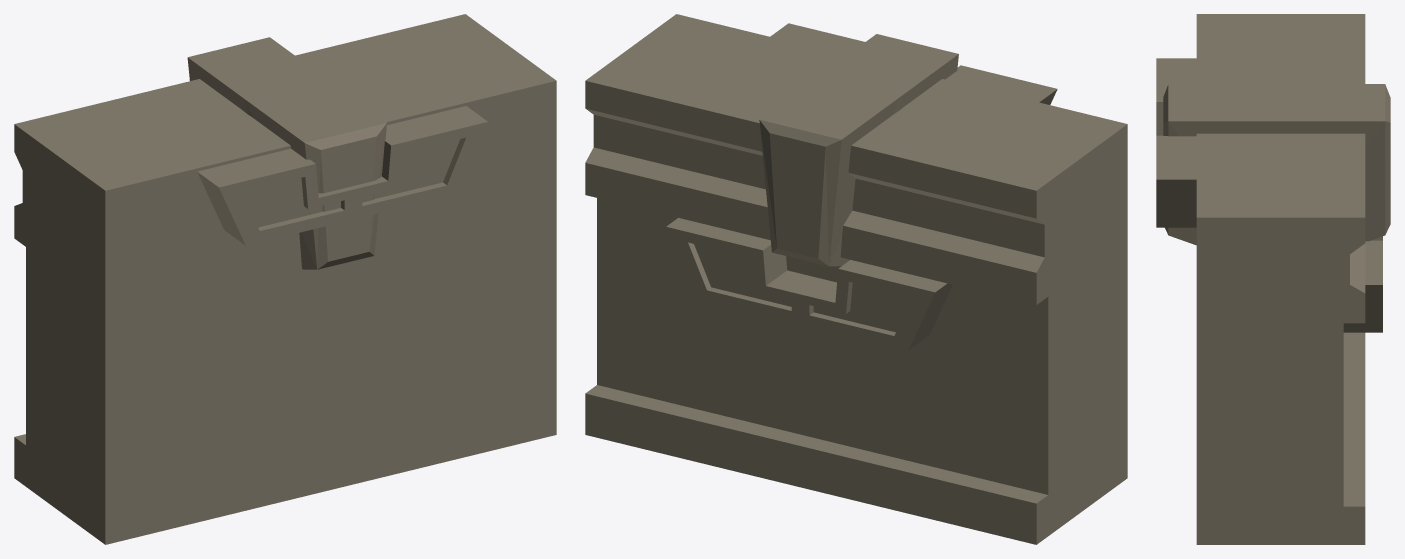
The model's file is TempleFrameB_A.fbx.
3 renders of one model, left to right at view 1: azimuth 30°, elevation 25°; view 2: azimuth 150°, elevation 25°; view 3: azimuth 270°, elevation 25°, orthographic. The views are drawn at different scales.
Parts seen in each view (by area): view 1: TempleFrameB_A; view 2: TempleFrameB_A; view 3: TempleFrameB_A.
Boxes of the visible parts, box(x1,y1,x2,y2) form: TempleFrameB_A: box(14, 14, 556, 544); TempleFrameB_A: box(585, 14, 1127, 544); TempleFrameB_A: box(1156, 14, 1390, 544).
Bounding box in the file's own units: 400 × 312 × 194.
